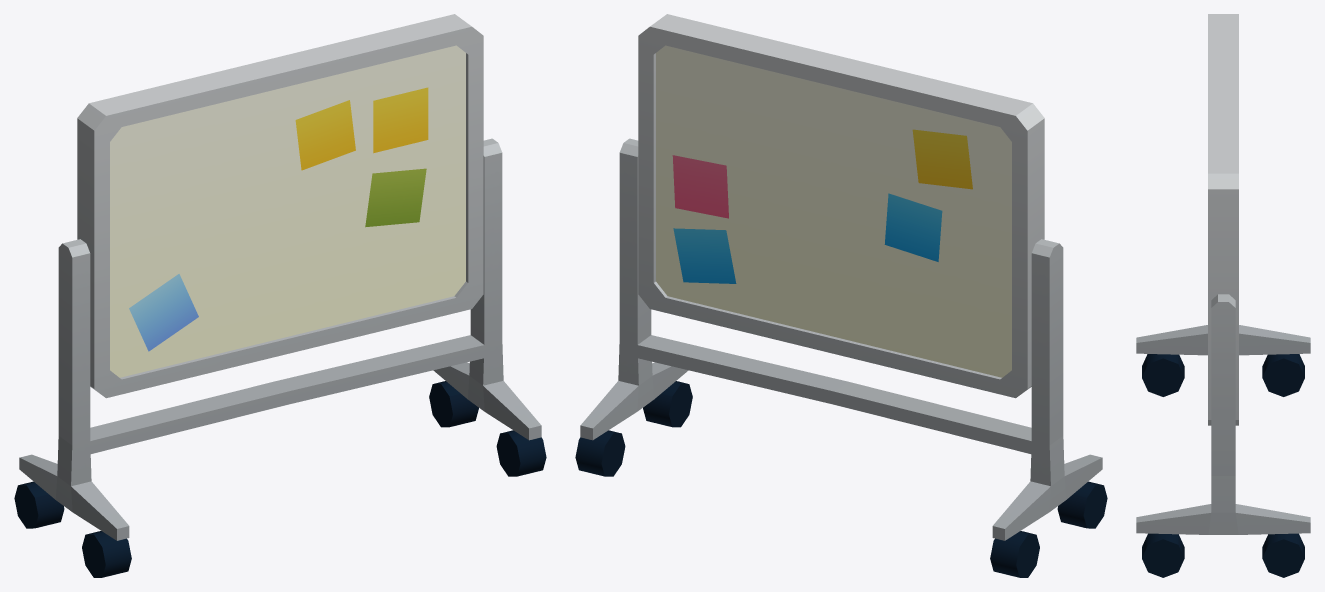
File: Whiteboard.fbx
3 renders of one model, left to right at view 1: azimuth 30°, elevation 25°; view 2: azimuth 150°, elevation 25°; view 3: azimuth 270°, elevation 25°, orthographic. The views are drawn at different scales.
Visible parts, largest first — view 1: WhiteBoard, WhiteBoard_Frame, Wheels; view 2: WhiteBoard, WhiteBoard_Frame, Wheels; view 3: WhiteBoard_Frame, WhiteBoard, Wheels.
Boxes of the visible parts, left/top/right/bottom form: WhiteBoard: left=77, top=14, right=483, bottom=398; WhiteBoard_Frame: left=19, top=138, right=541, bottom=540; Wheels: left=14, top=381, right=546, bottom=577; WhiteBoard: left=638, top=14, right=1044, bottom=398; WhiteBoard_Frame: left=580, top=138, right=1102, bottom=540; Wheels: left=575, top=381, right=1107, bottom=577; WhiteBoard_Frame: left=1136, top=294, right=1310, bottom=534; WhiteBoard: left=1208, top=14, right=1238, bottom=425; Wheels: left=1142, top=354, right=1304, bottom=577.
Size of the model in its own units: 427 by 402 by 164.
